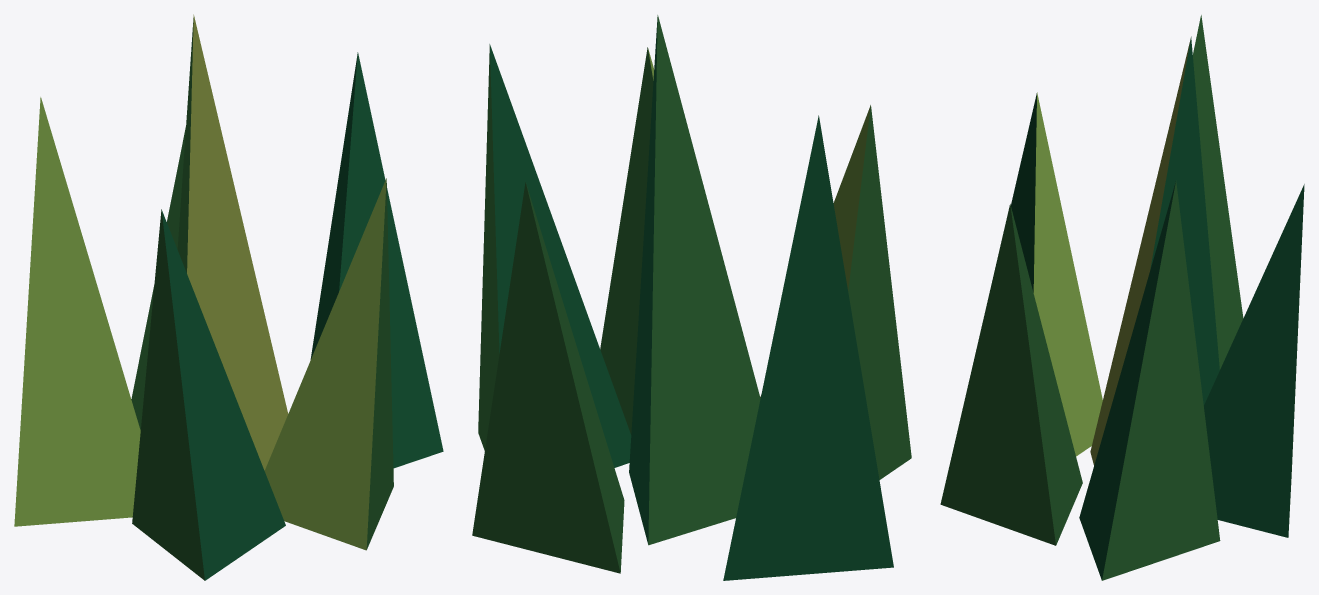
Rendered from TB_Env_GrassB.FBX.
3 views of the same model, side by side, from view 1: azimuth 30°, elevation 25°; view 2: azimuth 150°, elevation 25°; view 3: azimuth 270°, elevation 25° (orthographic). The views are drawn at different scales.
Parts seen in each view (by area): view 1: TB_Env_GrassB; view 2: TB_Env_GrassB; view 3: TB_Env_GrassB.
Boxes of the visible parts, left/top/right/bottom form: TB_Env_GrassB: left=14, top=14, right=443, bottom=580; TB_Env_GrassB: left=472, top=15, right=911, bottom=580; TB_Env_GrassB: left=940, top=15, right=1304, bottom=580.
Size of the model in its own units: 0.5118 by 0.5569 by 0.4115.
